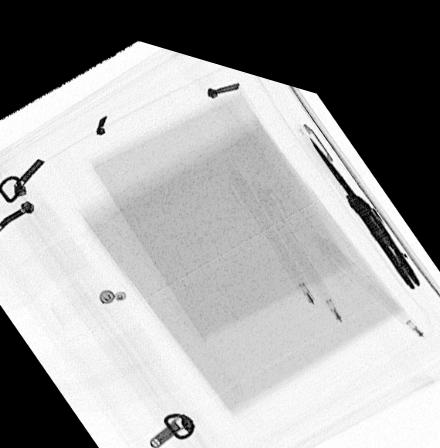Knife: (307, 118, 423, 268)
